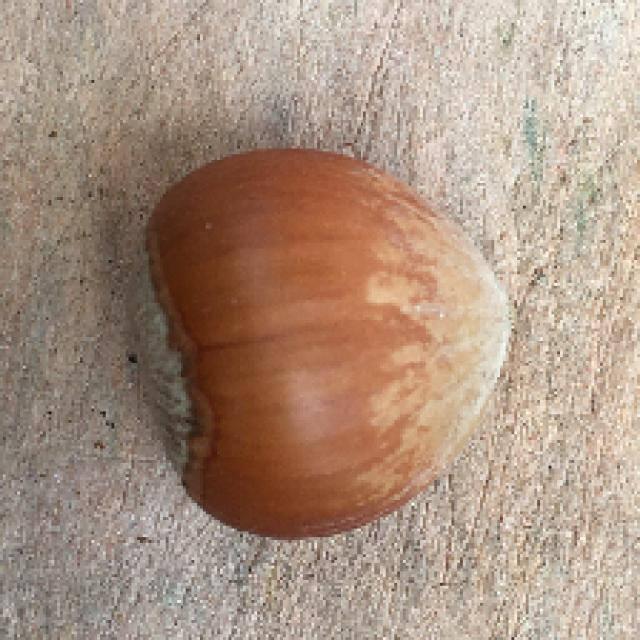QualityHazelnut: (126, 141, 515, 545)
